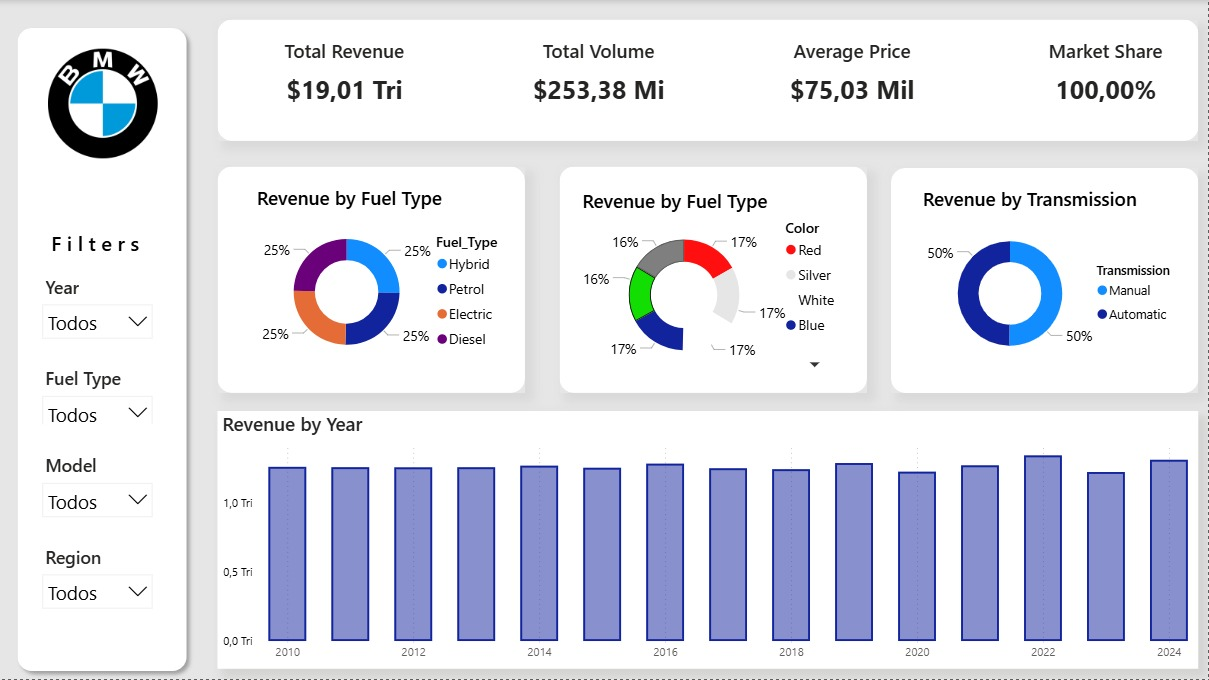

What the dashboard file says about the page in this screenshot:
{"tool":"powerbi","page":{"name":"Página 1","canvas":[1280,720],"ordinal":0},"visuals":[{"type":"shape","box":[230.6,20.7,1040.3,128.8],"z":0},{"type":"shape","box":[592.6,177.1,326.1,240.2],"z":1000},{"type":"shape","box":[944.8,178.1,326.1,238.6],"z":2000},{"type":"shape","box":[231.3,177.1,326.1,240.2],"z":3000},{"type":"shape","box":[9.5,20.7,197.2,699.9],"z":4000},{"type":"textbox","box":[60.4,278.4,85.9,46.1],"z":5000},{"type":"shape","box":[278.4,22.3,198.8,117.7],"z":6000},{"type":"shape","box":[541.9,22.3,200.4,117.7],"z":7000},{"type":"shape","box":[1072.1,22.3,186.1,117.7],"z":8000},{"type":"shape","box":[807,22.3,200.4,117.7],"z":9000},{"type":"card","title":"Total Revenue","fields":{"Values":["BMW sales data (2010-2024).Total Revenue"]},"box":[278.4,39.4,173.4,84.3],"z":10000},{"type":"card","title":"Market Share","fields":{"Values":["BMW sales data (2010-2024).Market Share %"]},"box":[1086.4,39.4,171.8,84.3],"z":11000},{"type":"card","title":"Average Price","fields":{"Values":["BMW sales data (2010-2024).Avg Price"]},"box":[817.6,39.4,171.8,84.3],"z":12000},{"type":"card","title":"Total Volume","fields":{"Values":["BMW sales data (2010-2024).Total Volume"]},"box":[548.8,39.4,171.8,84.3],"z":13000},{"type":"donutChart","title":"Revenue by Fuel Type","fields":{"Y":["BMW sales data (2010-2024).Total Revenue"],"Category":["BMW sales data (2010-2024).Fuel_Type"]},"box":[268,195.7,286,200.4],"z":14000},{"type":"pieChart","title":"Revenue by Transmission","fields":{"Y":["BMW sales data (2010-2024).Total Revenue"],"Category":["BMW sales data (2010-2024).Transmission"]},"box":[973.5,197.2,286.3,200.4],"z":15000},{"type":"slicer","fields":{"Values":["BMW sales data (2010-2024).Year"]},"box":[35,286.3,136.8,73.2],"z":17000},{"type":"slicer","fields":{"Values":["BMW sales data (2010-2024).Region"]},"box":[35,572.6,136.8,73.2],"z":18000},{"type":"slicer","fields":{"Values":["BMW sales data (2010-2024).Model"]},"box":[35,475.1,136.8,73.2],"z":19000},{"type":"slicer","fields":{"Values":["BMW sales data (2010-2024).Fuel_Type"]},"box":[35,383.9,136.8,66.8],"z":20000},{"type":"columnChart","title":"Revenue by Year","fields":{"Category":["BMW sales data (2010-2024).Year"],"Y":["BMW sales data (2010-2024).Total Revenue"]},"box":[230.6,435.8,1040.3,273.6],"z":21000},{"type":"donutChart","title":"Revenue by Fuel Type","fields":{"Y":["BMW sales data (2010-2024).Total Revenue"],"Category":["BMW sales data (2010-2024).Color"]},"box":[612.4,198.8,286.3,200.4],"z":22000},{"type":"image","box":[35,39.8,147.9,140],"z":23000},{"type":"textbox","box":[49.3,237,106.6,41.4],"z":24000}]}

Visuals, with their boxes in screenshot pixels (x1, y1, x2, y2), scaled from the page's 1280x720 canvas onto the 1209x680 screenshot:
shape: [218, 20, 1200, 141]
shape: [560, 167, 868, 394]
shape: [892, 168, 1200, 394]
shape: [218, 167, 526, 394]
shape: [9, 20, 195, 679]
textbox: [57, 263, 138, 306]
shape: [263, 21, 451, 132]
shape: [512, 21, 701, 132]
shape: [1013, 21, 1188, 132]
shape: [762, 21, 952, 132]
"Total Revenue" card: [263, 37, 427, 117]
"Market Share" card: [1026, 37, 1188, 117]
"Average Price" card: [772, 37, 935, 117]
"Total Volume" card: [518, 37, 681, 117]
"Revenue by Fuel Type" donutChart: [253, 185, 523, 374]
"Revenue by Transmission" pieChart: [920, 186, 1190, 376]
slicer - BMW sales data (2010-2024).Year: [33, 270, 162, 340]
slicer - BMW sales data (2010-2024).Region: [33, 541, 162, 610]
slicer - BMW sales data (2010-2024).Model: [33, 449, 162, 518]
slicer - BMW sales data (2010-2024).Fuel_Type: [33, 363, 162, 426]
"Revenue by Year" columnChart: [218, 412, 1200, 670]
"Revenue by Fuel Type" donutChart: [578, 188, 849, 377]
image: [33, 38, 173, 170]
textbox: [47, 224, 147, 263]
